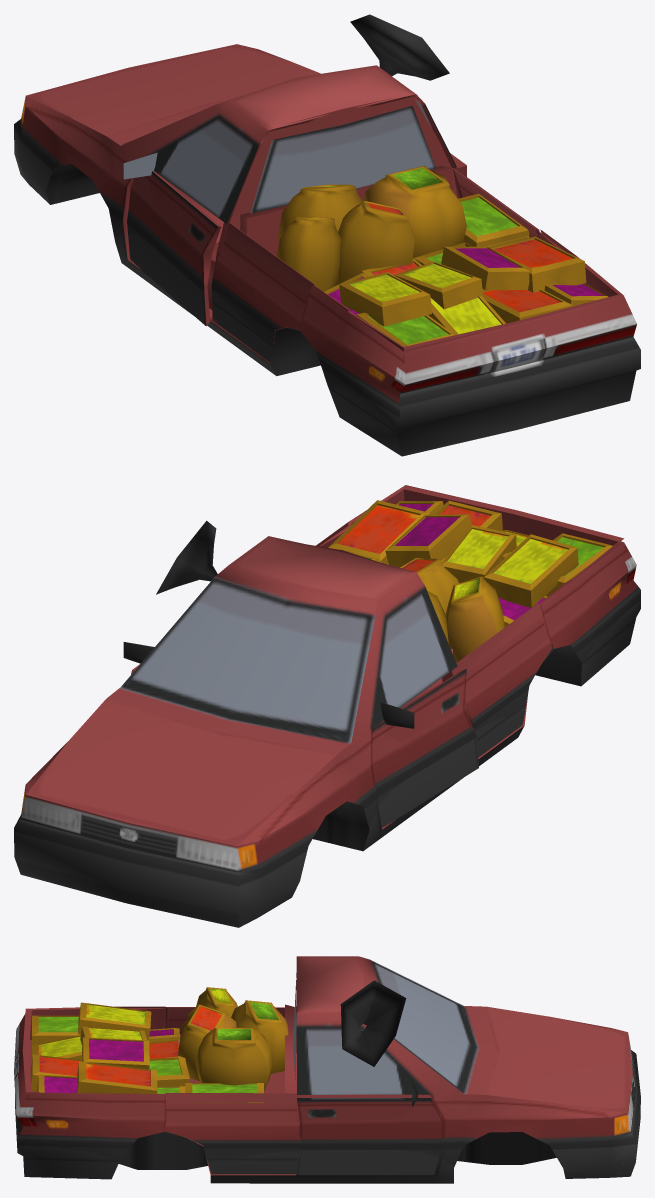
File: vehicles_hayMorrones.fbx
3 renders of one model, top to bottom at view 1: azimuth 30°, elevation 25°; view 2: azimuth 150°, elevation 25°; view 3: azimuth 270°, elevation 25°, orthographic. The views are drawn at different scales.
Visible parts, largest first — view 1: Vehicles_ModernCar02; view 2: Vehicles_ModernCar02; view 3: Vehicles_ModernCar02.
Boxes of the visible parts, left/top/right/bottom form: Vehicles_ModernCar02: left=14, top=14, right=640, bottom=456; Vehicles_ModernCar02: left=14, top=485, right=640, bottom=927; Vehicles_ModernCar02: left=14, top=956, right=640, bottom=1183.
Size of the model in its own units: 1.05 by 0.84 by 2.5.
